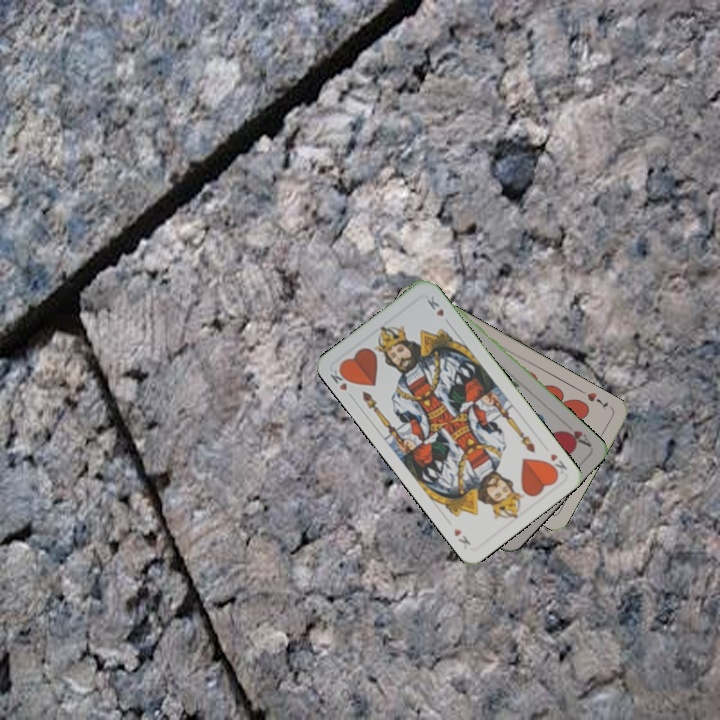H7: (583, 388, 611, 412)
HA: (557, 425, 594, 450)
HK: (326, 363, 356, 402), (543, 449, 570, 478)
